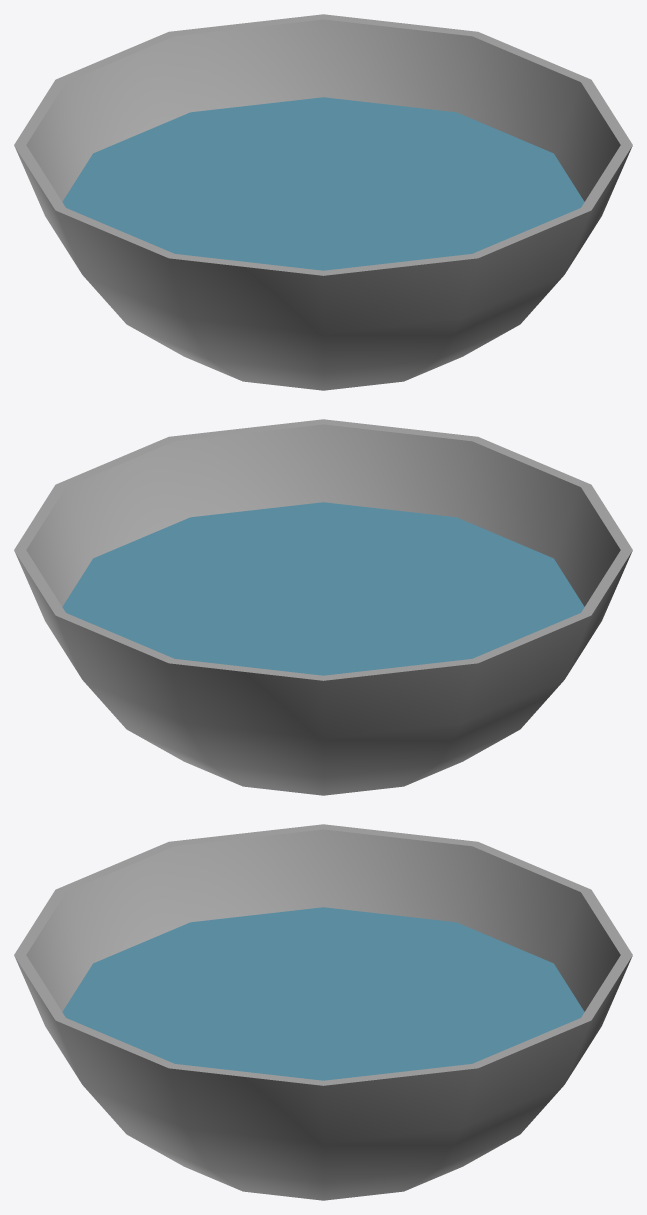
The model's file is bowl.fbx.
The picture shows the model from 3 angles, top to bottom: view 1: azimuth 30°, elevation 25°; view 2: azimuth 150°, elevation 25°; view 3: azimuth 270°, elevation 25°; orthographic projection.
Visible parts, largest first — view 1: polySurface25, polySurface26; view 2: polySurface25, polySurface26; view 3: polySurface25, polySurface26.
Boxes of the visible parts, <box> form: polySurface25: <box>14,14,632,390</box>; polySurface26: <box>62,97,584,270</box>; polySurface25: <box>14,419,632,795</box>; polySurface26: <box>62,502,584,675</box>; polySurface25: <box>14,824,632,1200</box>; polySurface26: <box>62,907,584,1080</box>.
Size of the model in its own units: 23.65 by 8.8 by 23.65.
